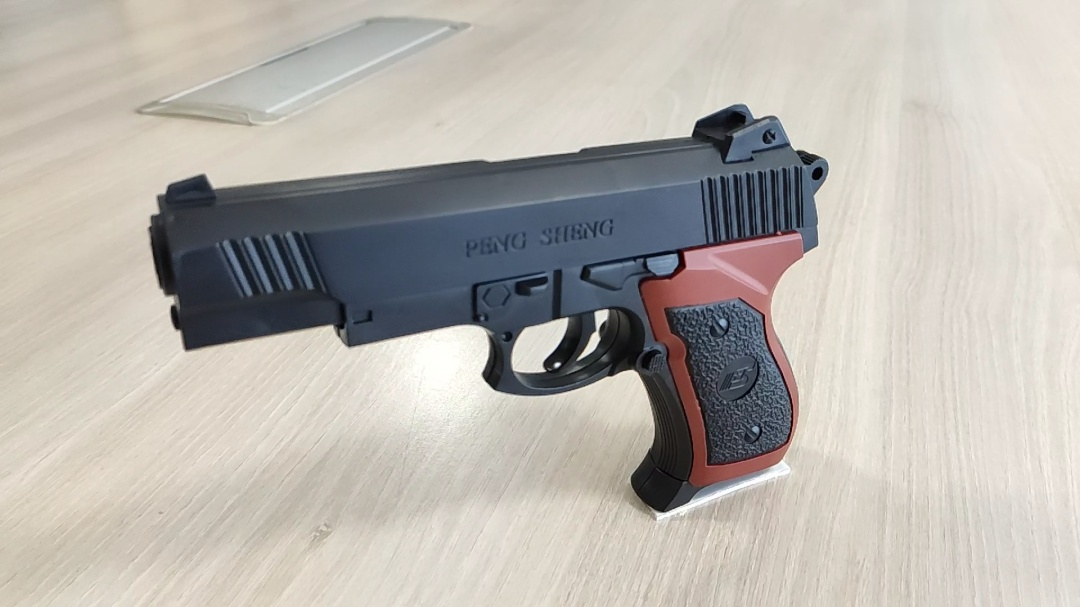gun: (310, 247, 374, 292)
